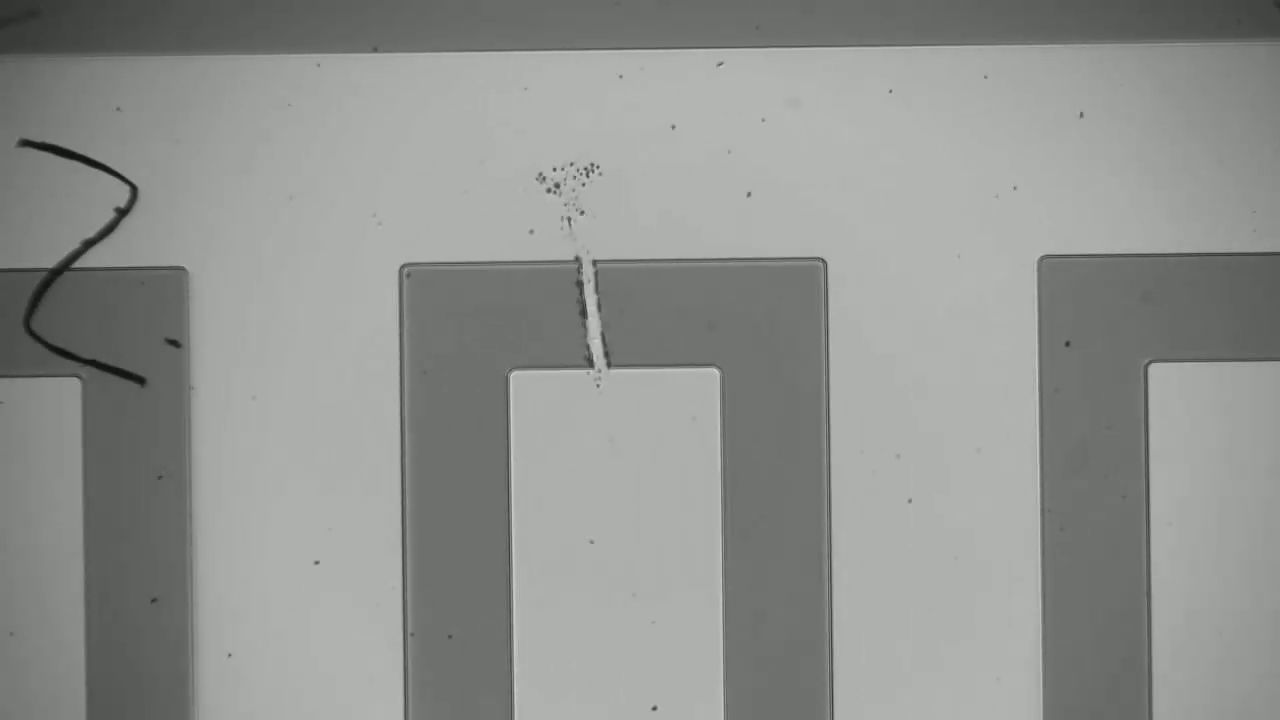Short_circuit: (549, 239, 641, 393)
